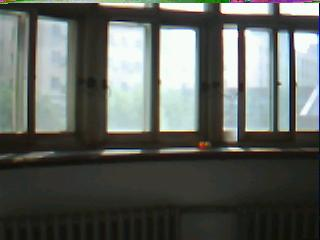oball: (200, 143, 206, 149)
